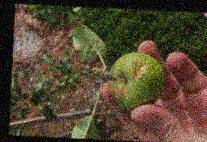rotten apple: (104, 48, 165, 110)
